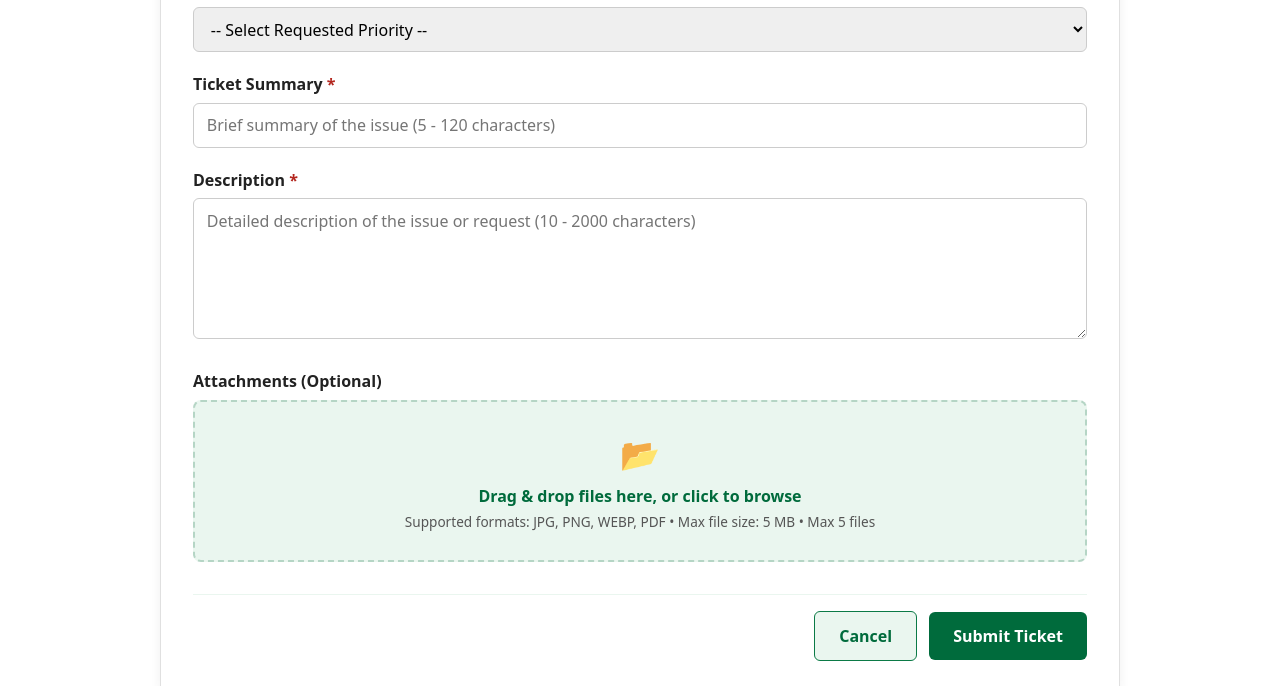
Test case: CreateTicket Component › displays field-level validation errors when submitting empty form without dropdown selections
(page scrolled)
Click the button "Submit Ticket". click: (1008, 636)
box: left=929, top=612, right=1087, bottom=660
(page scrolled)
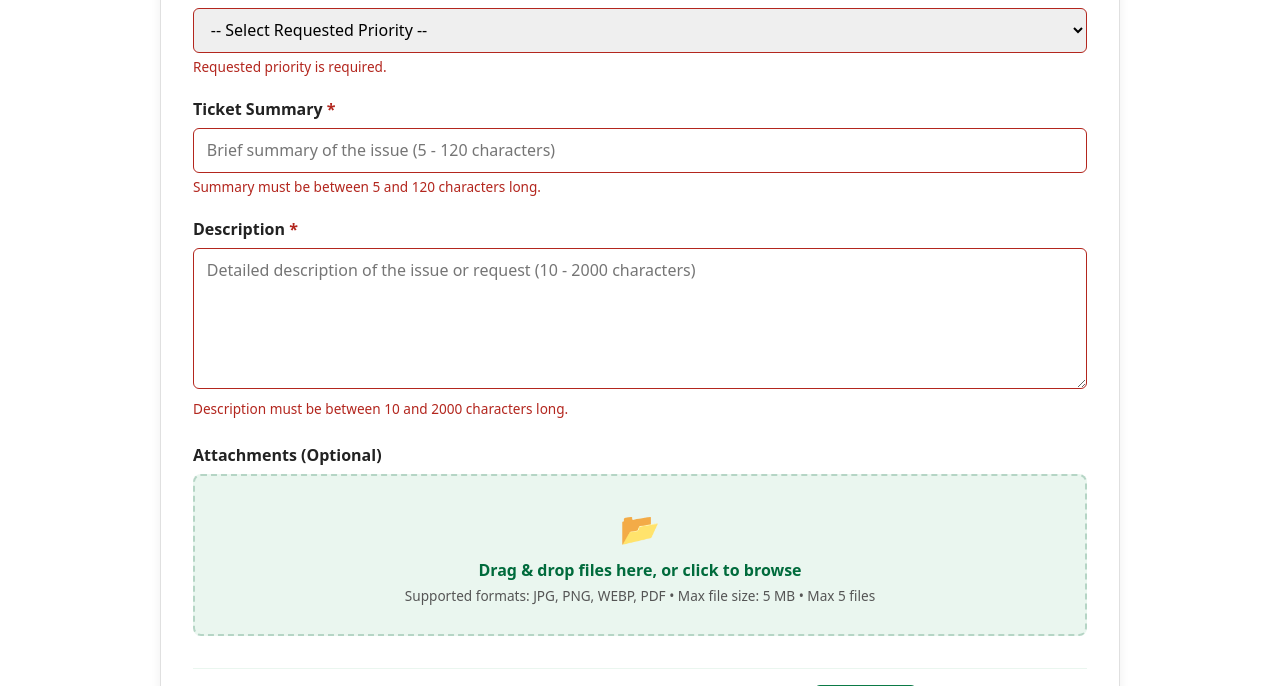
Expected: the text "Requested priority is required." is shown, left=193, top=57, right=387, bottom=76
Expected: the text "Summary must be between 5 and 120 characters long." is shown, left=193, top=177, right=541, bottom=196
Expected: the text "Description must be between 10 and 2000 characters long." is shown, left=193, top=399, right=568, bottom=418
